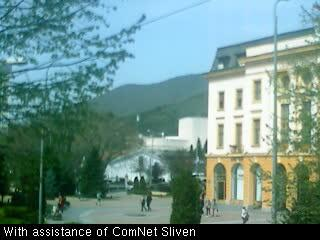person: (198, 192, 205, 216), (241, 206, 249, 224), (212, 199, 219, 217), (140, 196, 147, 213), (146, 193, 152, 212), (205, 200, 211, 217), (96, 192, 103, 206), (58, 198, 64, 214)
